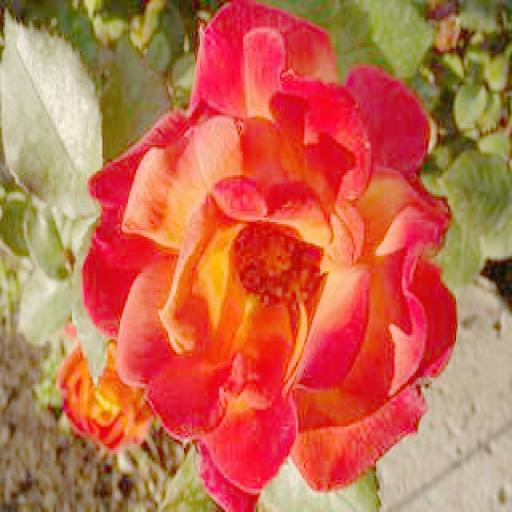rose: (82, 2, 454, 512)
